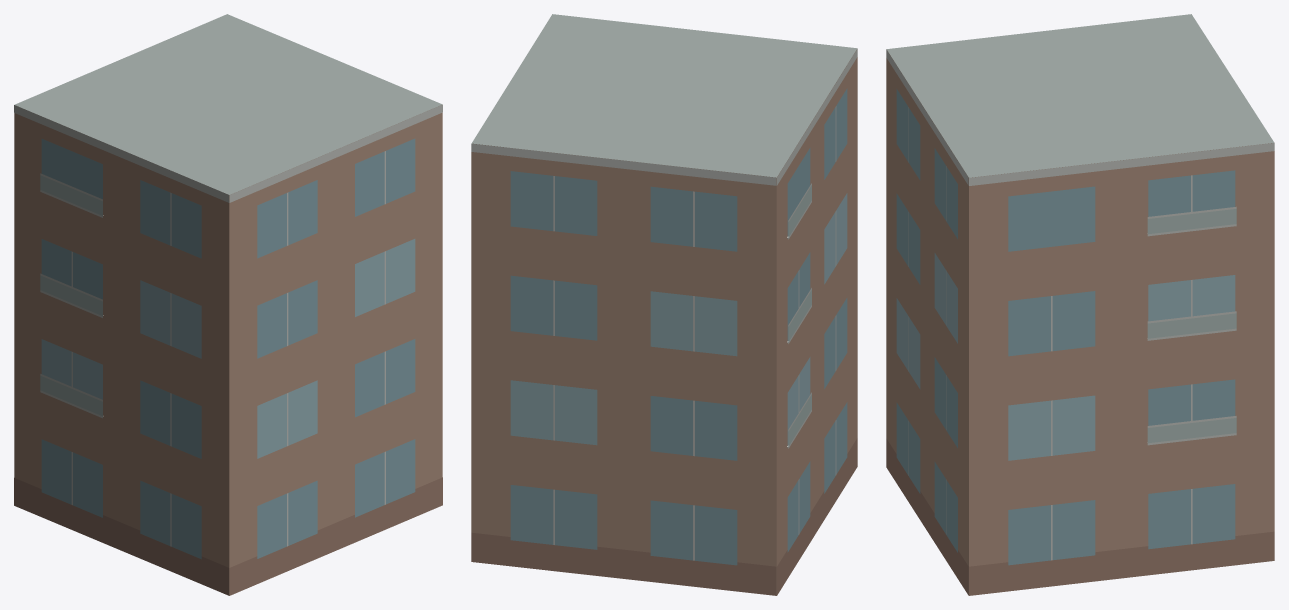
Rendered from residential-3e946132-505e-48df-85d3-962eab9db02b.glb.
3 views of the same model, side by side, from view 1: azimuth 30°, elevation 25°; view 2: azimuth 150°, elevation 25°; view 3: azimuth 270°, elevation 25° (orthographic). The views are drawn at different scales.
Visible parts, largest first — view 1: residential-3e946132-505e-48df-85d3-962eab9db02b.tmp; view 2: residential-3e946132-505e-48df-85d3-962eab9db02b.tmp; view 3: residential-3e946132-505e-48df-85d3-962eab9db02b.tmp.
Boxes of the visible parts, x1,y1,x2,y2 form: residential-3e946132-505e-48df-85d3-962eab9db02b.tmp: (14,14,442,595); residential-3e946132-505e-48df-85d3-962eab9db02b.tmp: (471,14,857,595); residential-3e946132-505e-48df-85d3-962eab9db02b.tmp: (886,14,1274,595).
Bounding box in the file's own units: 10.26 × 12.2 × 10.28.
